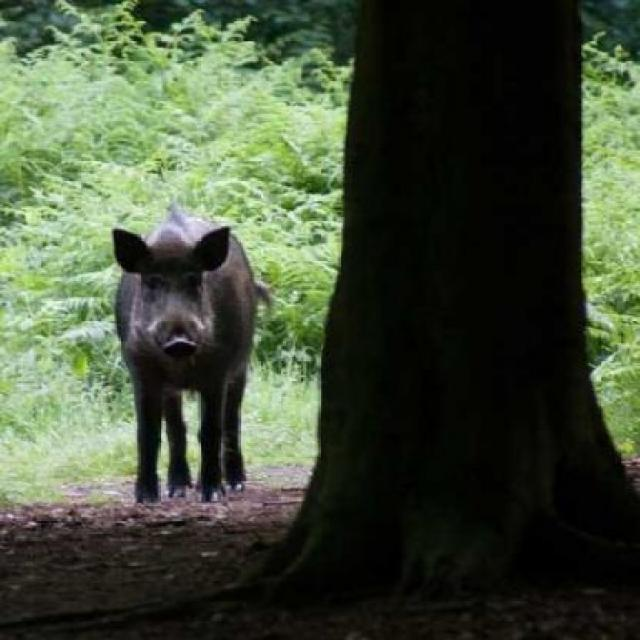pig: (80, 182, 267, 532)
